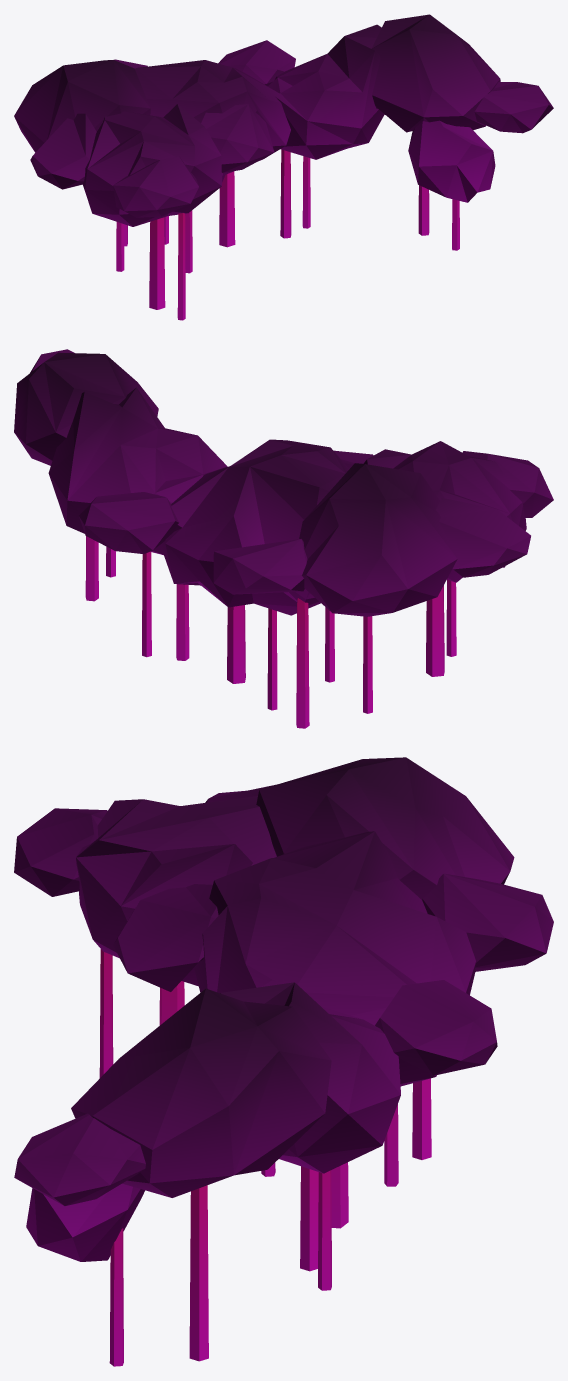
File: SM_Generic_Tree_Patch_02.fbx
3 renders of one model, top to bottom at view 1: azimuth 30°, elevation 25°; view 2: azimuth 150°, elevation 25°; view 3: azimuth 270°, elevation 25°, orthographic. The views are drawn at different scales.
Parts seen in each view (by area): view 1: SM_Generic_Tree_Patch_02; view 2: SM_Generic_Tree_Patch_02; view 3: SM_Generic_Tree_Patch_02.
Boxes of the visible parts, box(x1,y1,x2,y2) form: SM_Generic_Tree_Patch_02: box(14, 14, 553, 320); SM_Generic_Tree_Patch_02: box(14, 349, 553, 728); SM_Generic_Tree_Patch_02: box(14, 757, 553, 1366).
Size of the model in its own units: 2465 by 1063 by 1442.
